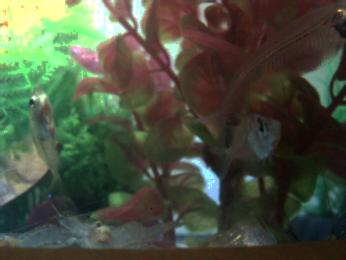X-ray fish: (26, 84, 70, 197), (210, 112, 282, 180)
glassfish: (178, 1, 346, 144)
siberian prawn: (60, 208, 176, 250), (3, 218, 83, 250)
